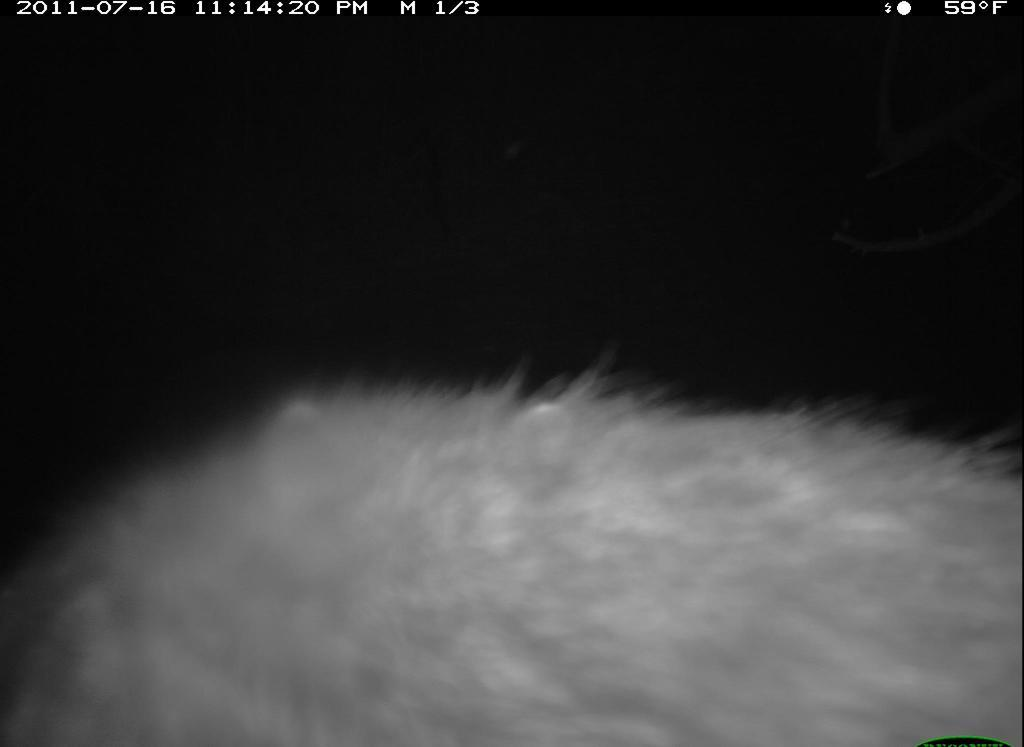raccoon: (1, 359, 1023, 747)
